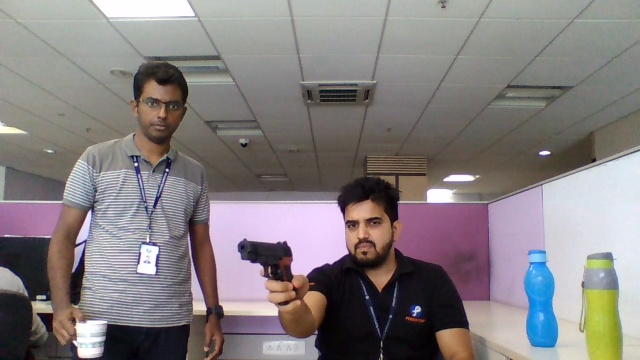gun: (237, 238, 295, 282)
